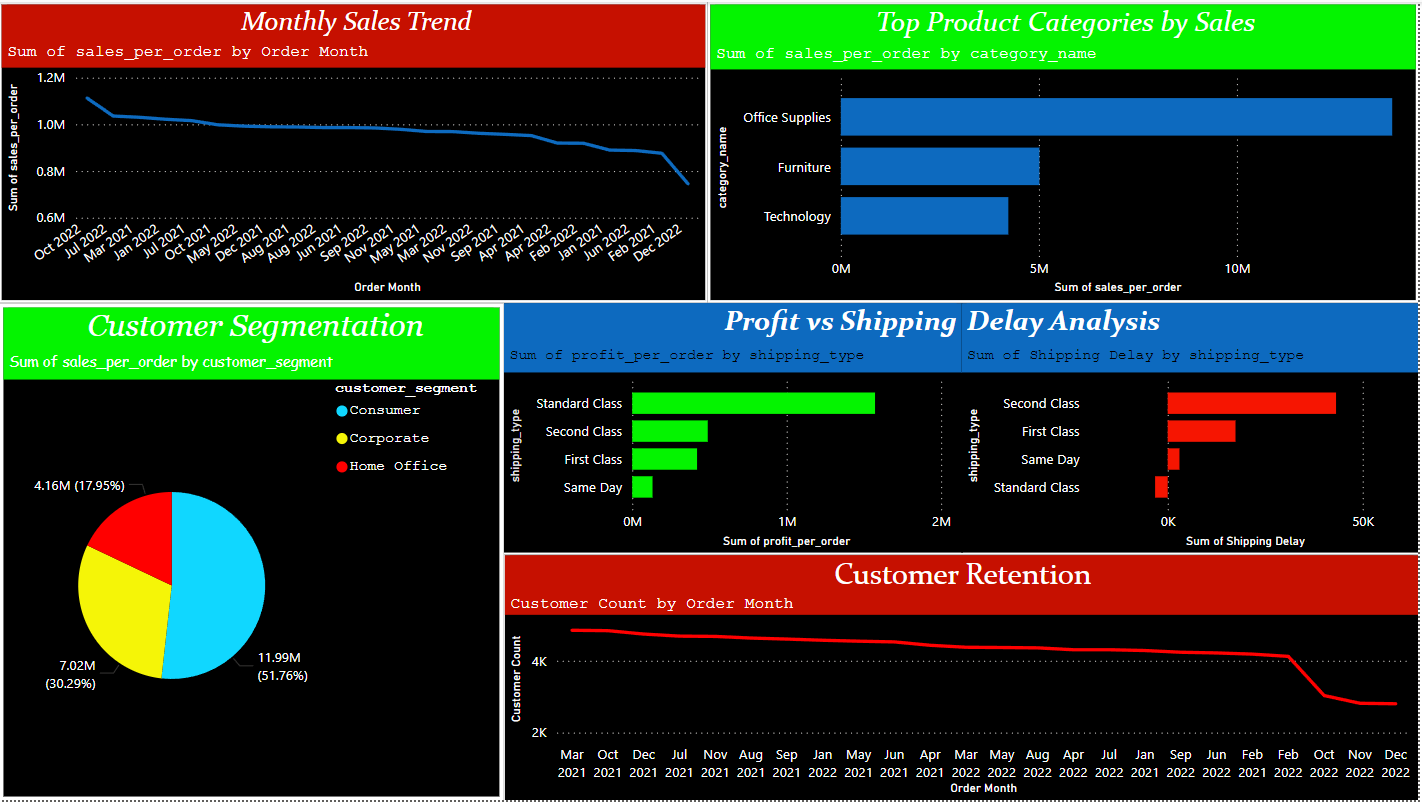

Layout of this report page (visuals, bound fields, positions):
{"tool":"powerbi","page":{"name":"Dashboard","canvas":[1280,720],"ordinal":0},"visuals":[{"type":"lineChart","title":"Monthly Sales Trend","fields":{"Category":["ecommerce_data.Order Month"],"Y":["Sum(ecommerce_data.sales_per_order)"]},"box":[0,0,639.5,271.5],"z":0},{"type":"clusteredBarChart","title":"Top Product Categories by Sales","fields":{"Category":["ecommerce_data.category_name"],"Y":["Sum(ecommerce_data.sales_per_order)"]},"box":[639.5,0,640.8,271.5],"z":1000},{"type":"pieChart","title":"Customer Segmentation","fields":{"Category":["ecommerce_data.customer_segment"],"Y":["Sum(ecommerce_data.sales_per_order)"]},"box":[0,271.5,454.9,448.8],"z":2000},{"type":"clusteredBarChart","title":"Profit vs Shipping","fields":{"Category":["ecommerce_data.shipping_type"],"Y":["Sum(ecommerce_data.profit_per_order)"]},"box":[454.9,271.5,413.3,225],"z":3000},{"type":"clusteredBarChart","title":" Delay Analysis","fields":{"Category":["ecommerce_data.shipping_type"],"Y":["Sum(ecommerce_data.Shipping Delay)"]},"box":[868.2,271.5,412.1,225],"z":4000},{"type":"lineChart","title":"Customer Retention","fields":{"Category":["ecommerce_data.Order Month"],"Y":["ecommerce_data.Customer Count"]},"box":[454.9,497.7,825.4,222.6],"z":5000}]}

Visuals, with their boxes in screenshot pixels (x1, y1, x2, y2), scaled from the page's 1280x720 canvas onto the 1422x802 screenshot:
"Monthly Sales Trend" lineChart: (x1=0, y1=0, x2=710, y2=302)
"Top Product Categories by Sales" clusteredBarChart: (x1=710, y1=0, x2=1421, y2=302)
"Customer Segmentation" pieChart: (x1=0, y1=302, x2=505, y2=801)
"Profit vs Shipping" clusteredBarChart: (x1=505, y1=302, x2=965, y2=553)
" Delay Analysis" clusteredBarChart: (x1=965, y1=302, x2=1421, y2=553)
"Customer Retention" lineChart: (x1=505, y1=554, x2=1421, y2=801)
